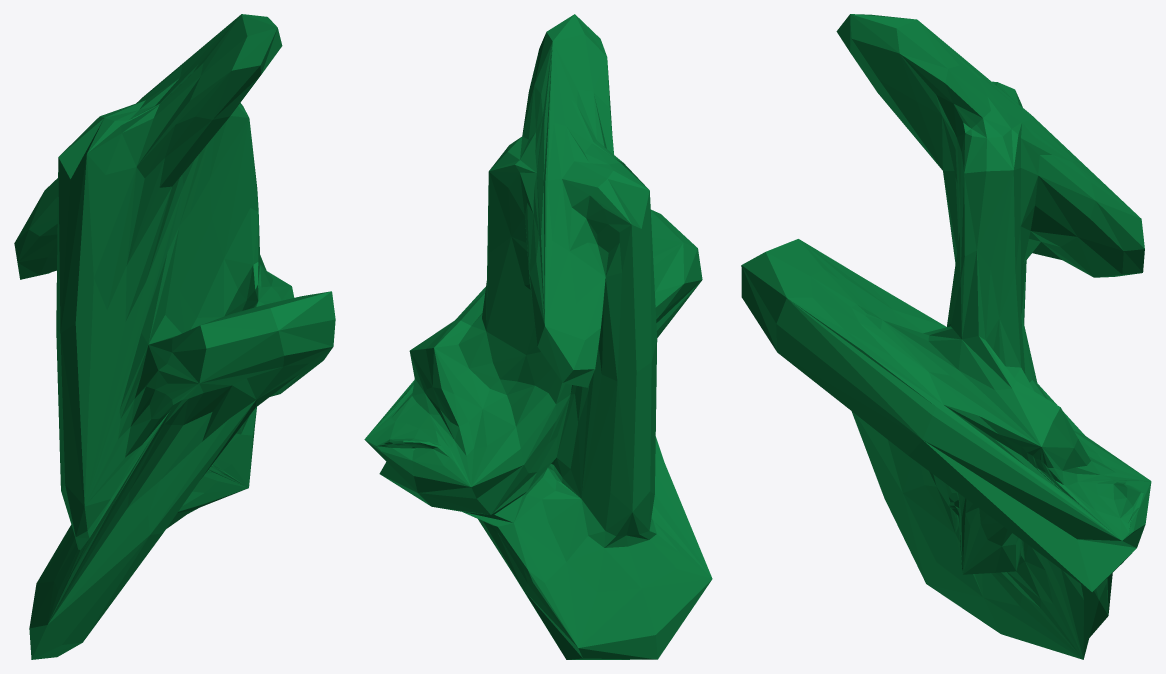
The picture shows the model from 3 angles, left to right: view 1: azimuth 30°, elevation 25°; view 2: azimuth 150°, elevation 25°; view 3: azimuth 270°, elevation 25°; orthographic projection. The views are drawn at different scales.
Parts seen in each view (by area): view 1: 204_Cube.846; view 2: 204_Cube.846; view 3: 204_Cube.846.
Part boxes in pixels (bbox=[...]): 204_Cube.846: bbox=[14, 14, 335, 659]; 204_Cube.846: bbox=[364, 14, 712, 659]; 204_Cube.846: bbox=[741, 14, 1151, 659].
Bounding box in the file's own units: 9.65 × 19.12 × 10.1.
